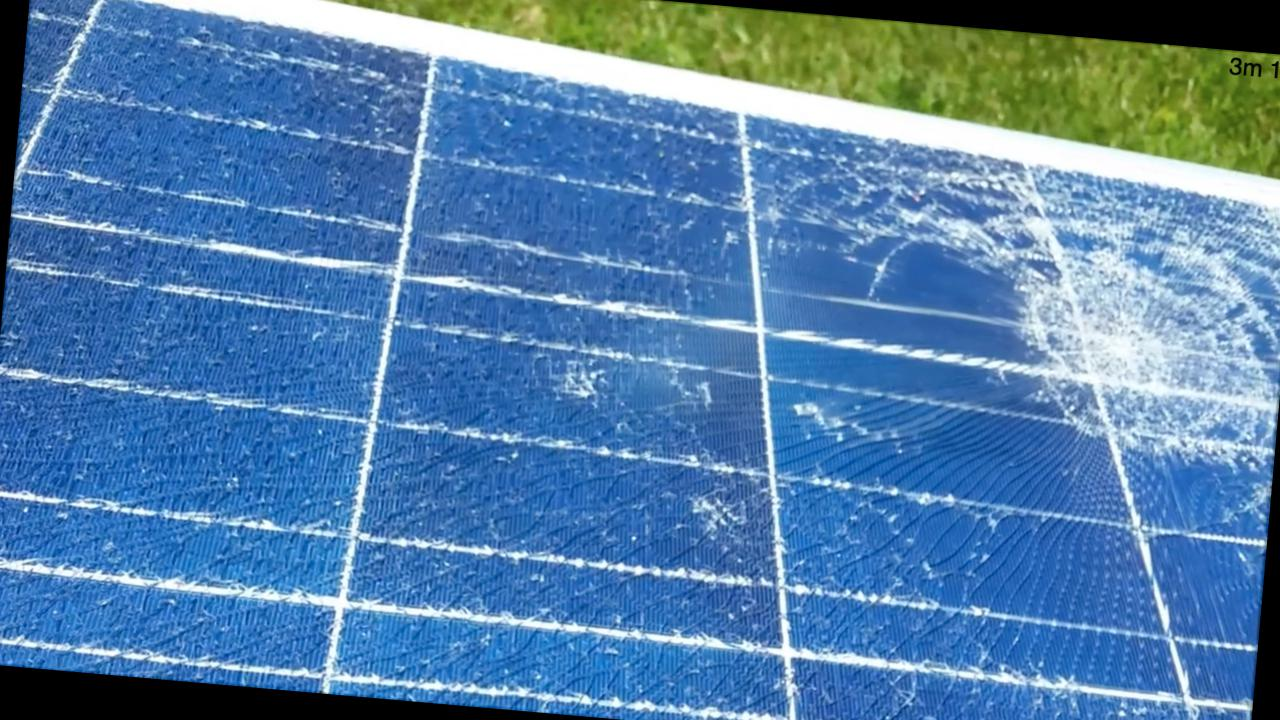Crack: (0, 249, 363, 571), (1009, 193, 1279, 477), (70, 27, 424, 230), (748, 129, 1011, 255), (674, 474, 776, 549), (526, 348, 616, 424)
